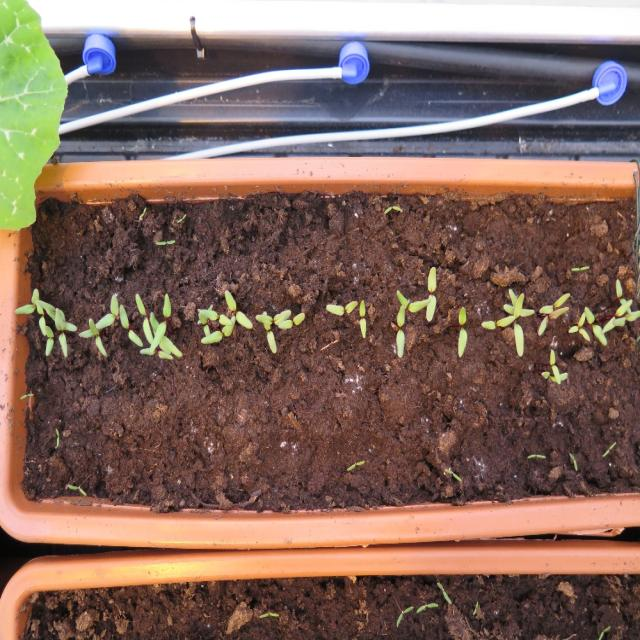crop: (324, 298, 358, 316), (457, 304, 467, 358), (358, 297, 366, 338)
weed: (395, 603, 413, 628), (436, 580, 451, 604), (414, 600, 438, 613), (66, 482, 86, 497), (444, 467, 462, 482), (601, 439, 616, 456), (346, 458, 364, 471), (155, 236, 176, 247), (257, 608, 279, 618), (383, 204, 402, 215), (568, 452, 577, 471), (18, 391, 34, 400), (471, 598, 478, 616), (526, 452, 546, 458), (570, 264, 588, 270), (176, 212, 186, 222), (54, 427, 59, 446), (139, 205, 146, 218)
